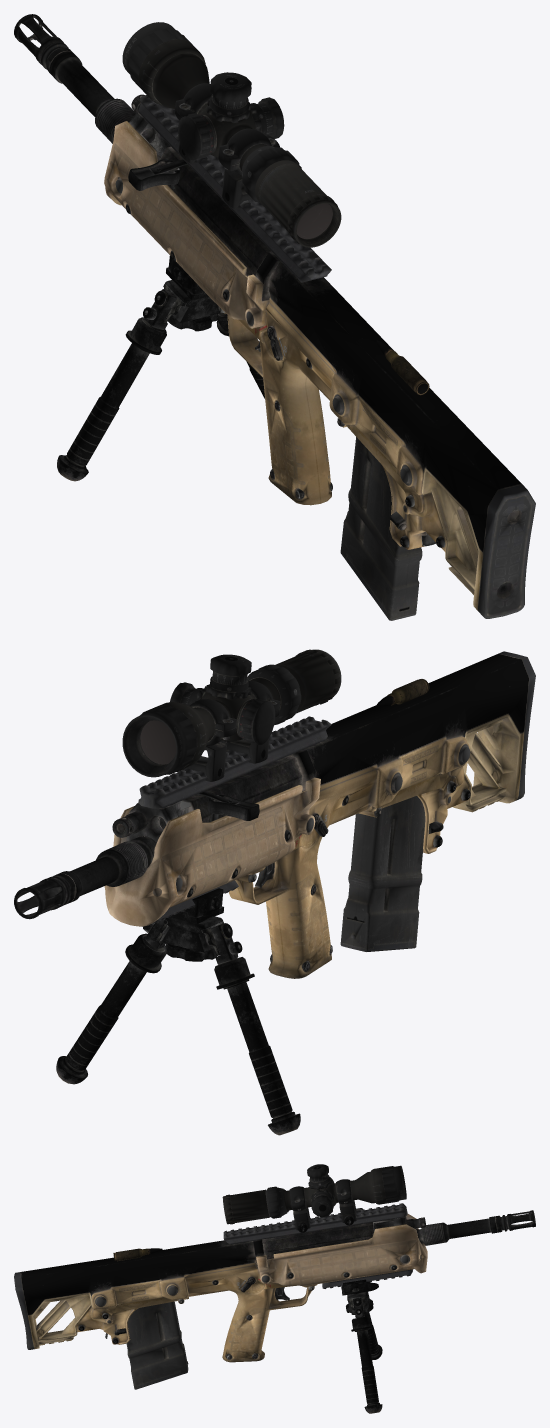
The model's file is keltec.obj.
3 views of the same model, one above another, from view 1: azimuth 30°, elevation 25°; view 2: azimuth 150°, elevation 25°; view 3: azimuth 270°, elevation 25° (orthographic). The views are drawn at different scales.
Visible parts, largest first — view 1: desirefx_me_006, desirefx_me_003, desirefx_me_001, desirefx_me_005, desirefx_me_004, desirefx_me_002; view 2: desirefx_me_006, desirefx_me_003, desirefx_me_005, desirefx_me_001, desirefx_me_002, desirefx_me_004; view 3: desirefx_me_006, desirefx_me_003, desirefx_me_001, desirefx_me_005, desirefx_me_004.
Part boxes in pixels (x1,y1,x2,y2): desirefx_me_006: (14, 14, 535, 618); desirefx_me_003: (122, 22, 341, 247); desirefx_me_001: (340, 437, 422, 620); desirefx_me_005: (57, 256, 264, 481); desirefx_me_004: (376, 340, 429, 395); desirefx_me_002: (296, 203, 332, 238); desirefx_me_006: (14, 651, 535, 978); desirefx_me_003: (122, 649, 341, 781); desirefx_me_005: (56, 888, 300, 1135); desirefx_me_001: (340, 796, 425, 951); desirefx_me_002: (140, 720, 176, 764); desirefx_me_004: (376, 679, 429, 706); desirefx_me_006: (14, 1203, 535, 1362); desirefx_me_003: (222, 1164, 406, 1232); desirefx_me_001: (126, 1301, 188, 1389); desirefx_me_005: (341, 1279, 382, 1413); desirefx_me_004: (113, 1248, 162, 1261).
Size of the model in its own units: 17.91 by 29.48 by 63.41.
